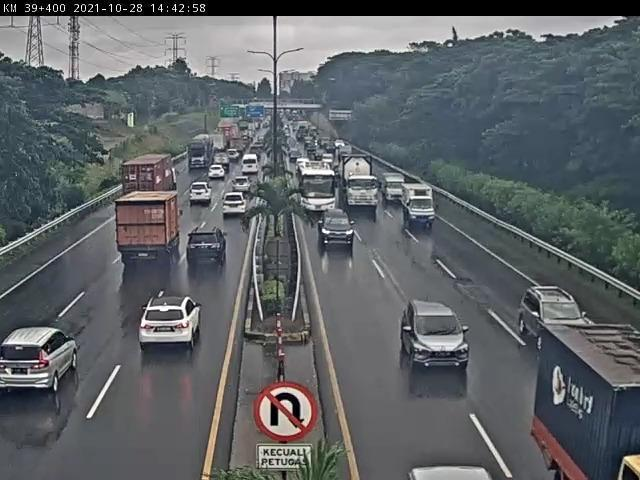bus: (297, 161, 338, 218)
car: (1, 327, 79, 396), (402, 299, 473, 371), (518, 288, 594, 355), (137, 297, 205, 354), (186, 226, 229, 268), (319, 210, 357, 253), (224, 193, 247, 218), (189, 183, 211, 208)
truck: (116, 190, 184, 266), (123, 156, 180, 211), (338, 152, 381, 212), (404, 184, 439, 231), (384, 173, 407, 206)
